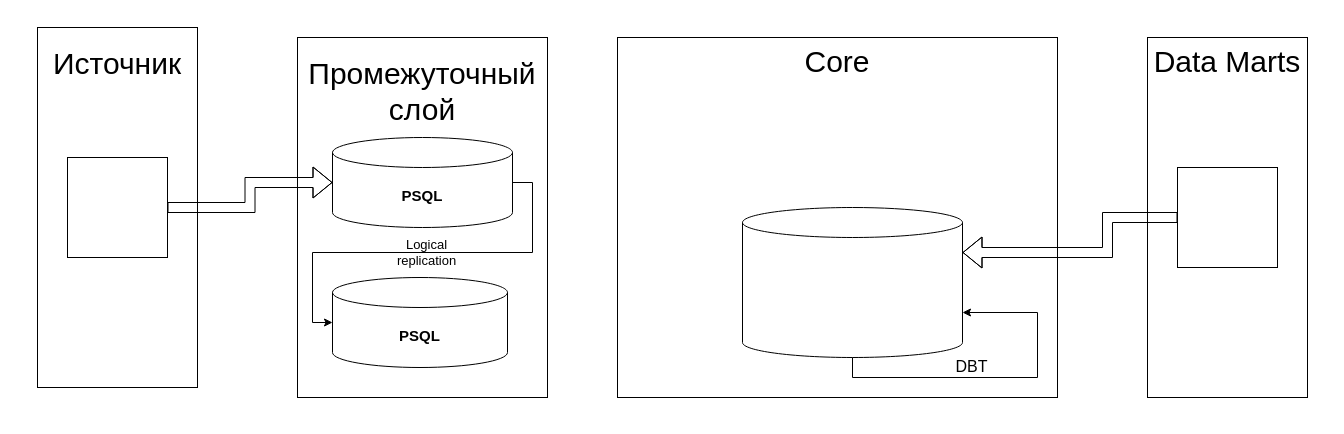
Image size: 1344x434. Some labels were removed from this diagram. The centre of each missing label's shape, as x and y in pixels:
API SpaceX: (x=117, y=207)
ClickHouse: (x=852, y=282)
MetaBase: (x=1227, y=217)
